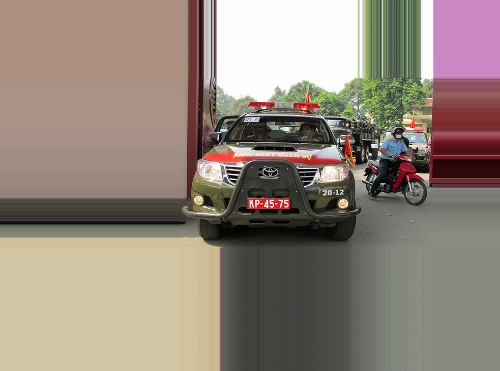plate: (246, 197, 291, 211)
